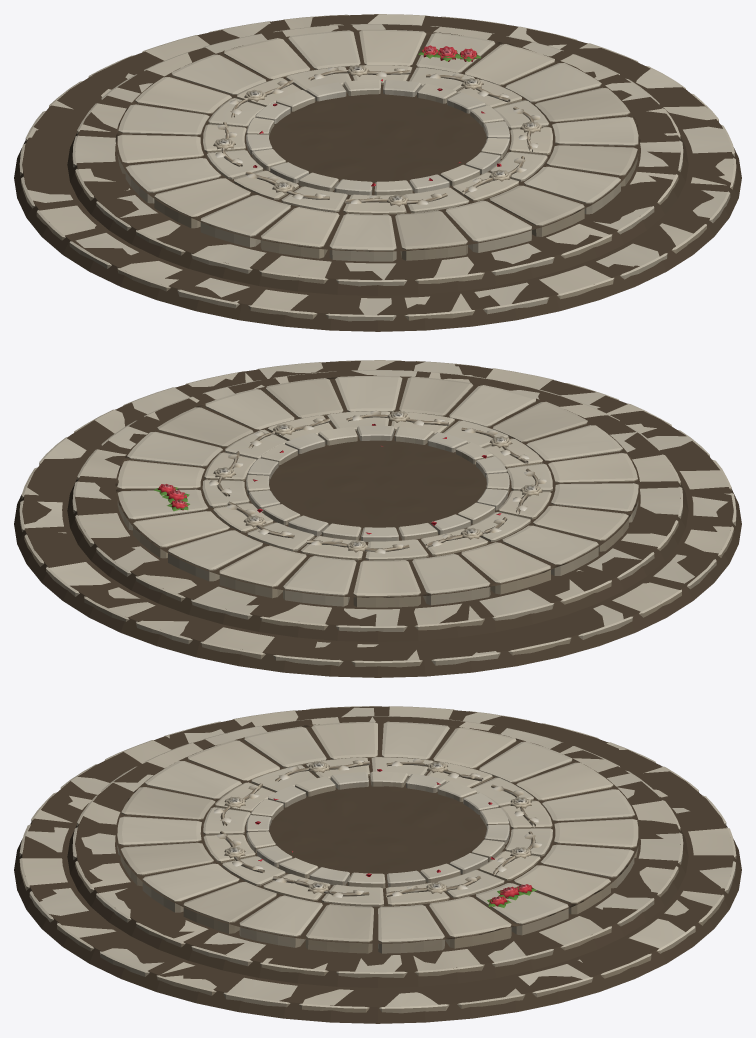
File: site2-grove-exposed.glb
3 renders of one model, top to bottom at view 1: azimuth 30°, elevation 25°; view 2: azimuth 150°, elevation 25°; view 3: azimuth 270°, elevation 25°, orthographic.
Parts seen in each view (by area): view 1: Monument_site2; view 2: Monument_site2; view 3: Monument_site2.
Boxes of the visible parts, left/top/right/bottom form: Monument_site2: left=14, top=14, right=741, bottom=331; Monument_site2: left=14, top=360, right=741, bottom=677; Monument_site2: left=14, top=706, right=741, bottom=1023.
Bounding box in the file's own units: 8.94 × 0.6515 × 8.94.
